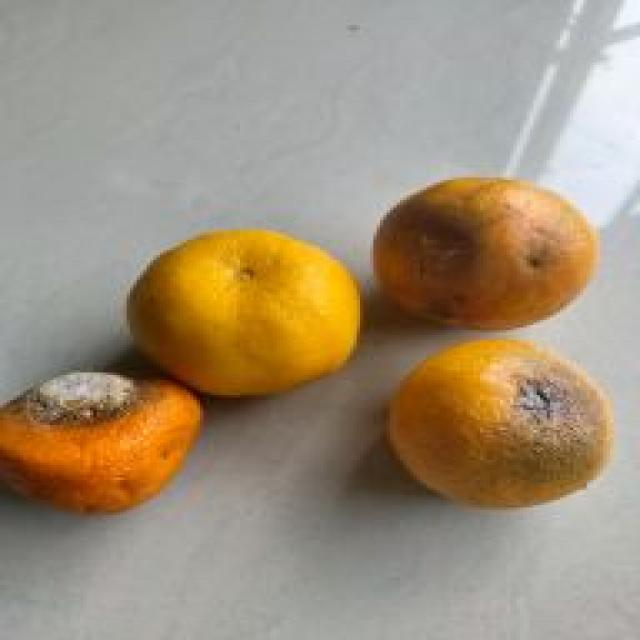Organik: (96, 210, 365, 417), (383, 334, 619, 526), (363, 156, 615, 330), (1, 369, 211, 539)
